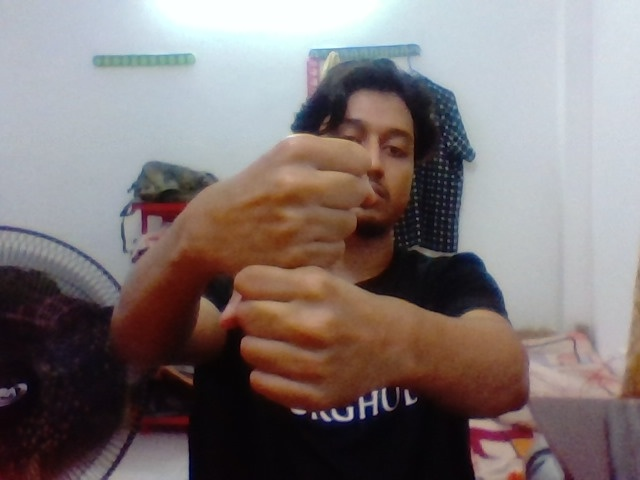G: (223, 117, 388, 406)
